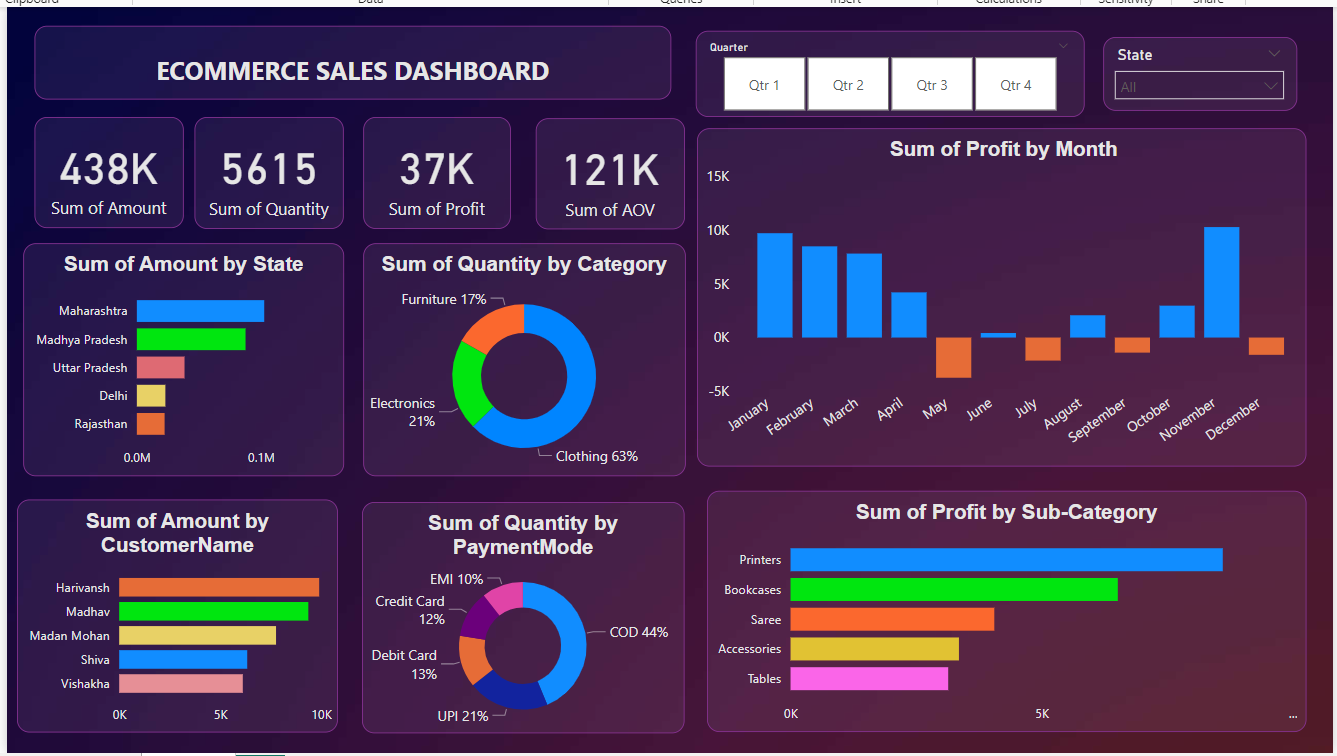

This screenshot's page, from the dashboard's own definition file:
{"tool":"powerbi","page":{"name":"Page 1","canvas":[1280,720],"ordinal":0},"visuals":[{"type":"textbox","box":[26,17.8,614.2,71.3],"z":0},{"type":"clusteredColumnChart","fields":{"Category":["Orders.Order Date.Variation.Date Hierarchy.Month"],"Y":["Details.Profit"]},"box":[666.3,116.5,588.2,326.3],"z":1000},{"type":"barChart","fields":{"Category":["Details.Sub-Category"],"Y":["Details.Profit"]},"box":[675.9,466.2,578.6,233.1],"z":2000},{"type":"donutChart","fields":{"Category":["Details.Category"],"Y":["Details.Quantity"]},"box":[344.1,227.6,311.2,224.9],"z":3000},{"type":"donutChart","fields":{"Category":["Details.PaymentMode"],"Y":["Details.Quantity"]},"box":[342.8,477.1,311.2,223.5],"z":4000},{"type":"card","fields":{"Values":["Details.Amount"]},"box":[26,105.6,144,106.9],"z":5000},{"type":"card","fields":{"Values":["Details.Quantity"]},"box":[181,105.6,144,108.3],"z":6000},{"type":"card","fields":{"Values":["Details.Profit"]},"box":[344.1,105.6,142.6,108.3],"z":7000},{"type":"card","fields":{"Values":["Details.AOV"]},"box":[510,106.9,144,106.9],"z":8000},{"type":"clusteredBarChart","fields":{"Y":["Details.Amount"],"Category":["Orders.State"]},"box":[15.1,227.6,309.9,224.9],"z":9000},{"type":"clusteredBarChart","fields":{"Y":["Details.Amount"],"Category":["Orders.CustomerName"]},"box":[9.6,475.8,309.9,224.9],"z":10000},{"type":"slicer","fields":{"Values":["Orders.Order Date.Variation.Date Hierarchy.Quarter"]},"box":[664.5,22.9,375.1,83.2],"z":11000},{"type":"slicer","fields":{"Values":["Orders.State"]},"box":[1057.7,28.9,186.9,71.2],"z":12000}]}

Visuals, with their boxes on the page's 1280x720 design canvas (x1, y1, x2, y2). These are canvas units, not pixel positions in the 1337x756 screenshot, which may show the page scaled, cropped or inside an application window:
textbox: Rect(26, 18, 640, 89)
clusteredColumnChart - Orders.Order Date.Variation.Date Hierarchy.Month x Details.Profit: Rect(666, 116, 1254, 443)
barChart - Details.Sub-Category x Details.Profit: Rect(676, 466, 1254, 699)
donutChart - Details.Category x Details.Quantity: Rect(344, 228, 655, 452)
donutChart - Details.PaymentMode x Details.Quantity: Rect(343, 477, 654, 701)
card - Details.Amount: Rect(26, 106, 170, 212)
card - Details.Quantity: Rect(181, 106, 325, 214)
card - Details.Profit: Rect(344, 106, 487, 214)
card - Details.AOV: Rect(510, 107, 654, 214)
clusteredBarChart - Details.Amount x Orders.State: Rect(15, 228, 325, 452)
clusteredBarChart - Details.Amount x Orders.CustomerName: Rect(10, 476, 320, 701)
slicer - Orders.Order Date.Variation.Date Hierarchy.Quarter: Rect(664, 23, 1040, 106)
slicer - Orders.State: Rect(1058, 29, 1245, 100)
